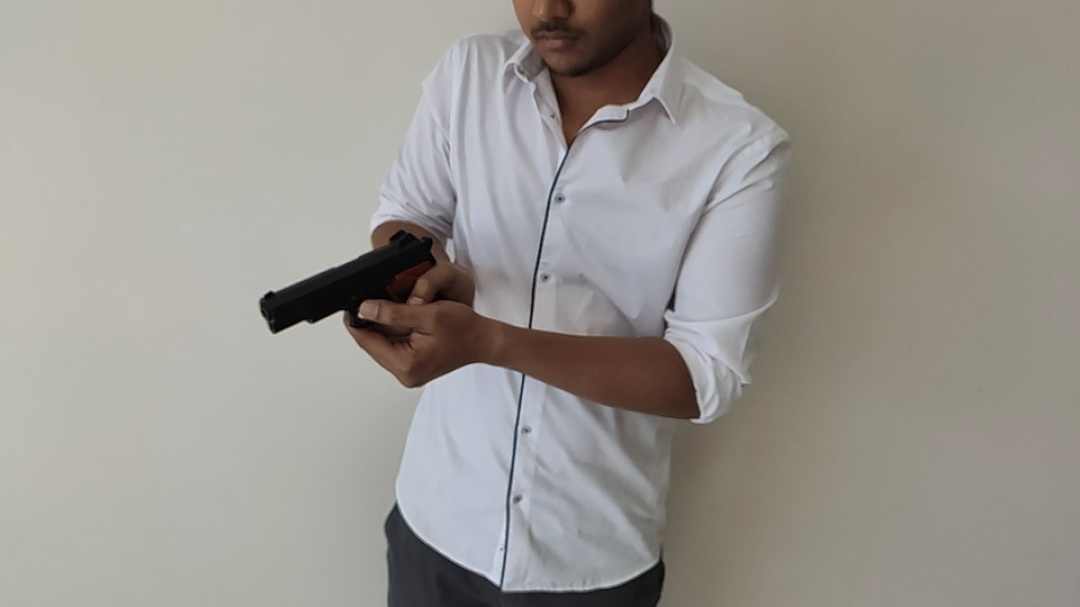gun: (195, 194, 561, 447)
